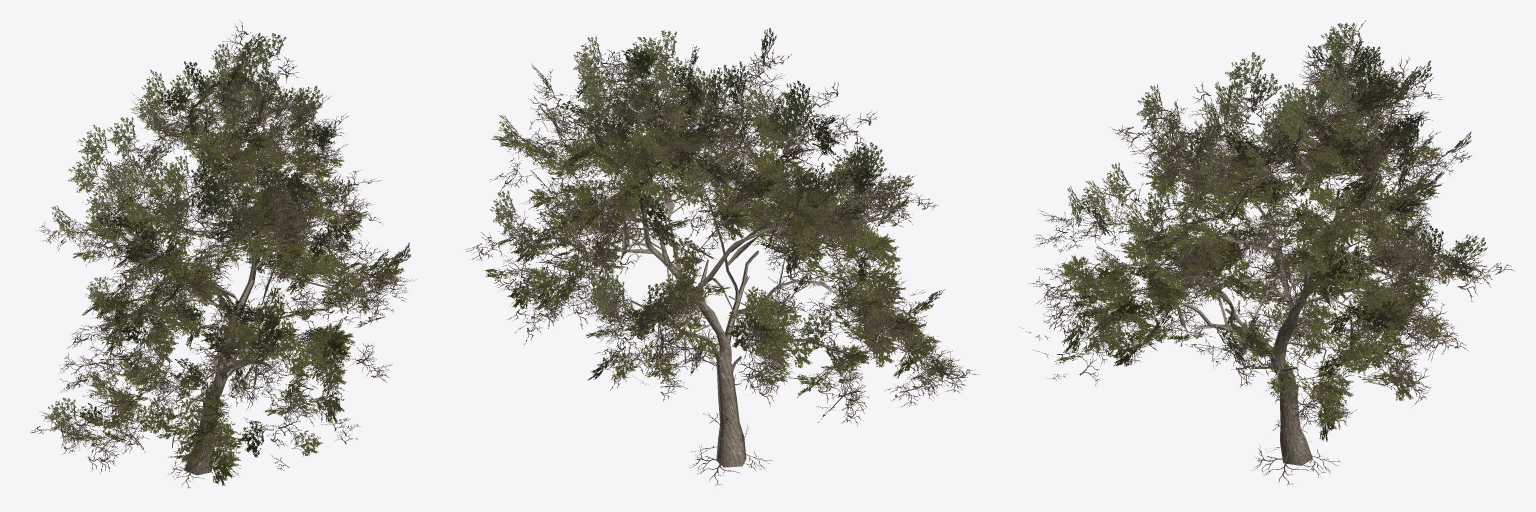
The model's file is SM_Tree.fbx.
3 renders of one model, left to right at view 1: azimuth 30°, elevation 25°; view 2: azimuth 150°, elevation 25°; view 3: azimuth 270°, elevation 25°, orthographic. The views are drawn at different scales.
Visible parts, largest first — view 1: SM_Tree_LOD0; view 2: SM_Tree_LOD0; view 3: SM_Tree_LOD0.
Boxes of the visible parts, box(x1,y1,x2,y2) form: SM_Tree_LOD0: box(30, 20, 416, 488); SM_Tree_LOD0: box(465, 28, 978, 485); SM_Tree_LOD0: box(1022, 20, 1513, 485).
Size of the model in its own units: 944 by 874 by 874.
2 materials, 2 textured.
